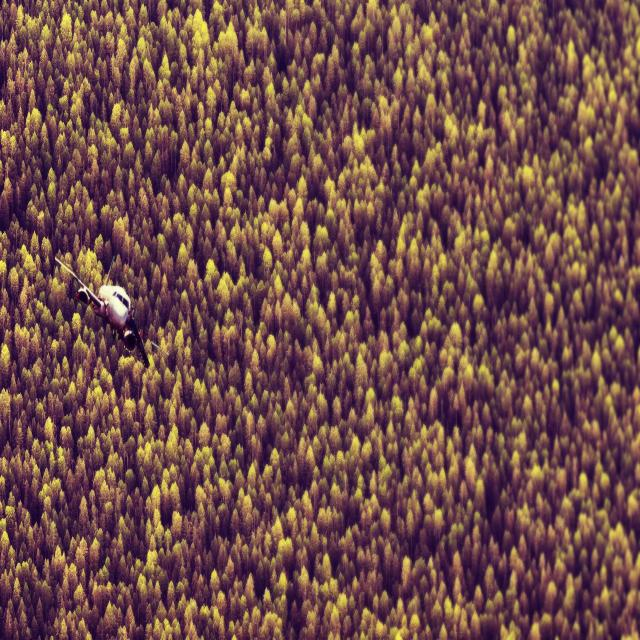airplane: (54, 253, 151, 369)
